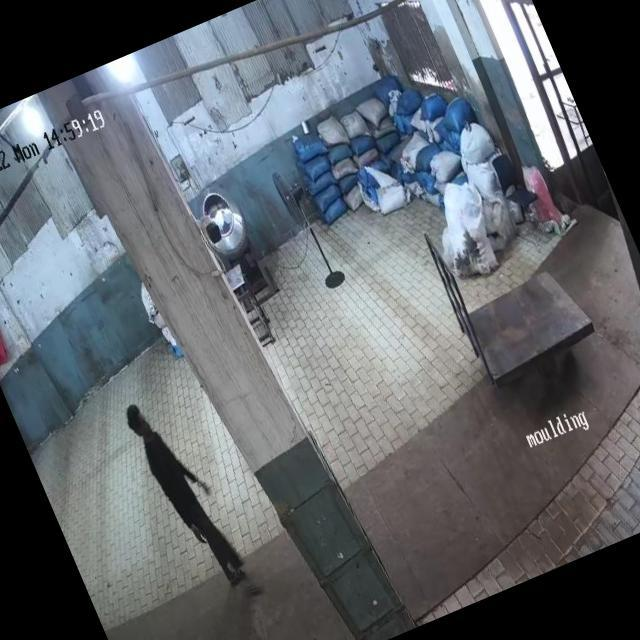person: (123, 388, 255, 606)
